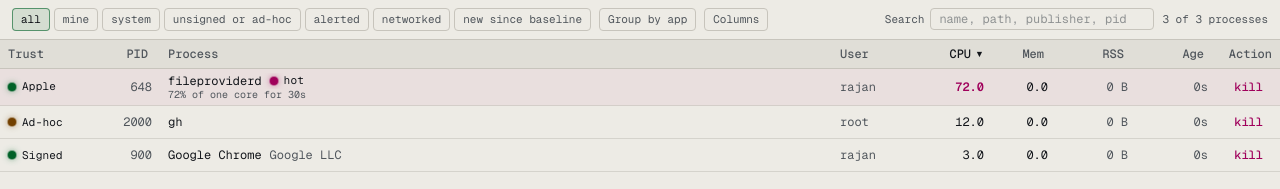
Test case: ProcessTable › filters and search narrow the rows and report the count
The width and height of the screenshot is (1280, 189).
Click the button "unsigned or ad-hoc" at (232, 19), box [164,8,301,30]
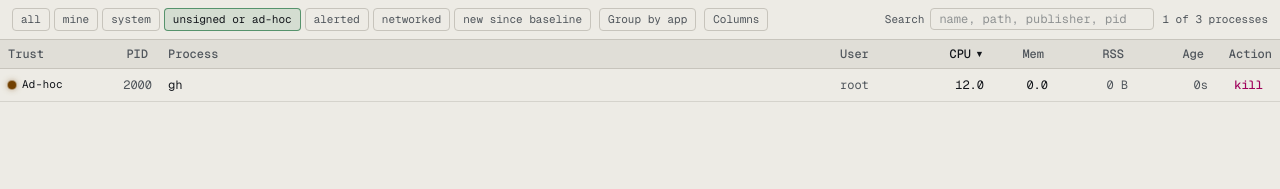
Click the button "all" at (31, 19), box [12,8,50,30]
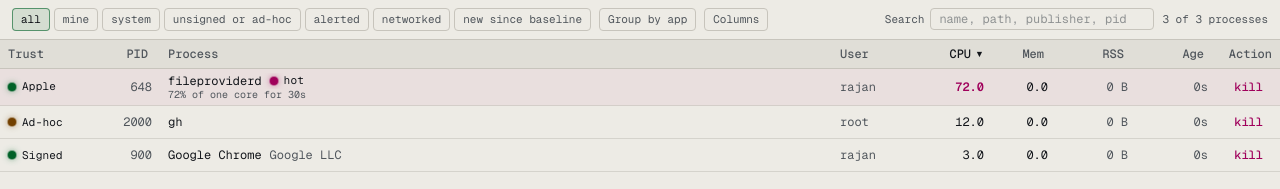
Type "google" into the search field at (1042, 19), box [930,8,1154,30]
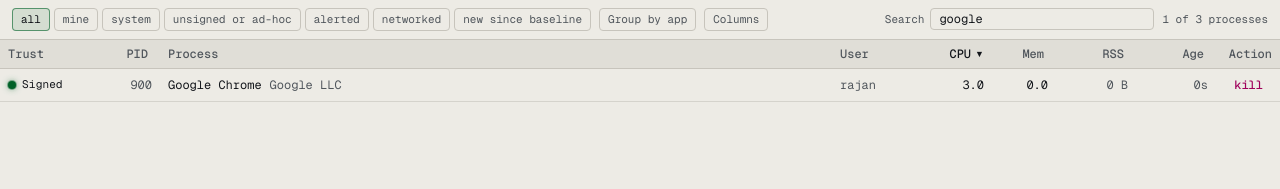
expect the message reads "1 of 3 processes": met, box [1162,12,1268,26]
